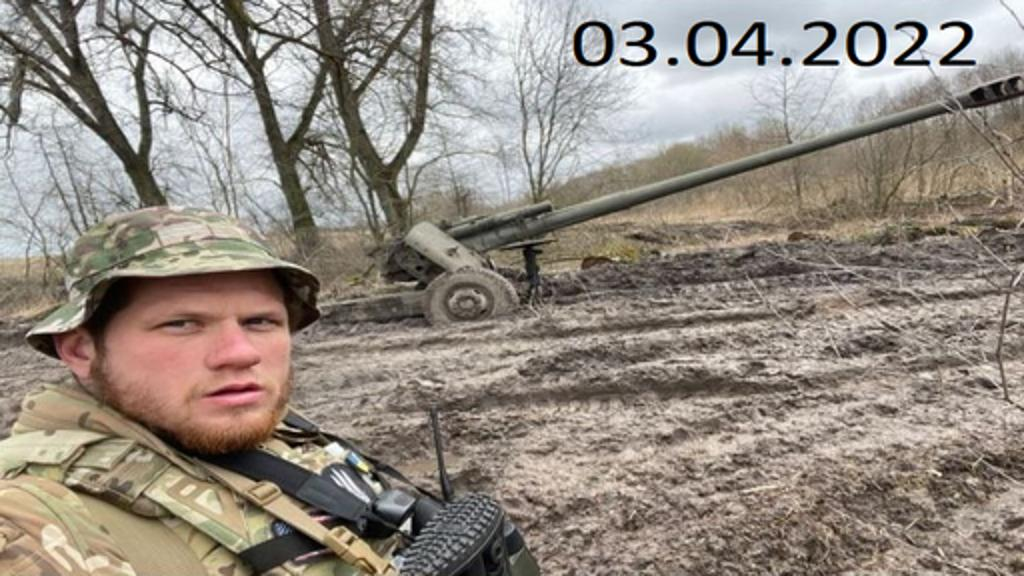ART: (338, 68, 1022, 326)
